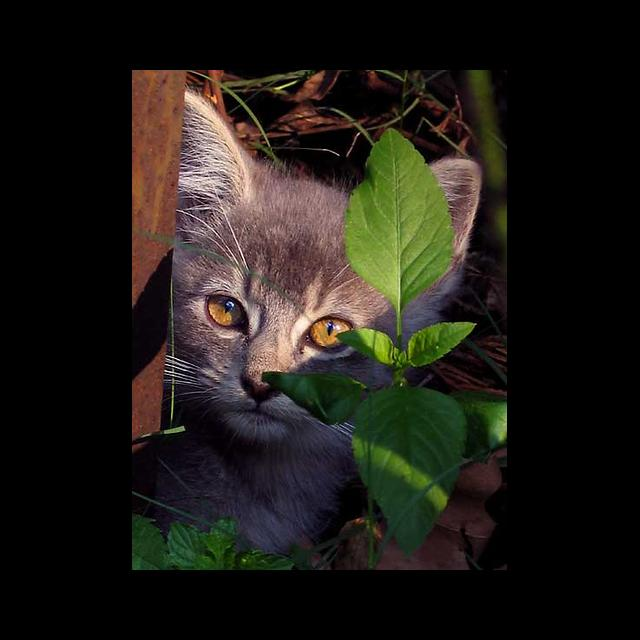animals: (162, 96, 474, 400)
